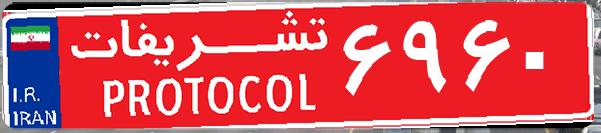0: (520, 20, 580, 115)
6: (340, 20, 400, 115), (460, 20, 520, 115)
9: (400, 20, 460, 115)
تشریفات: (60, 8, 340, 125)
